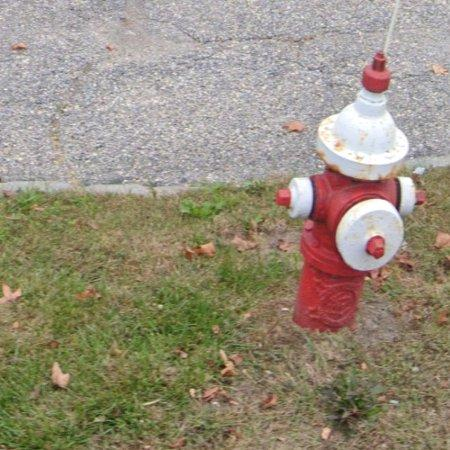a fire hydrant: (276, 52, 423, 332)
